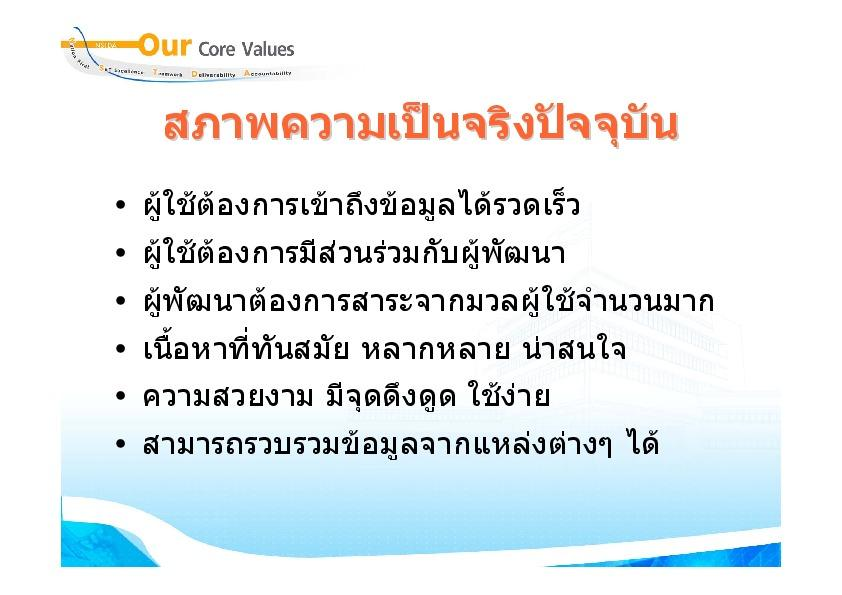paragraph: (84, 177, 775, 496)
title: (144, 90, 702, 160)
